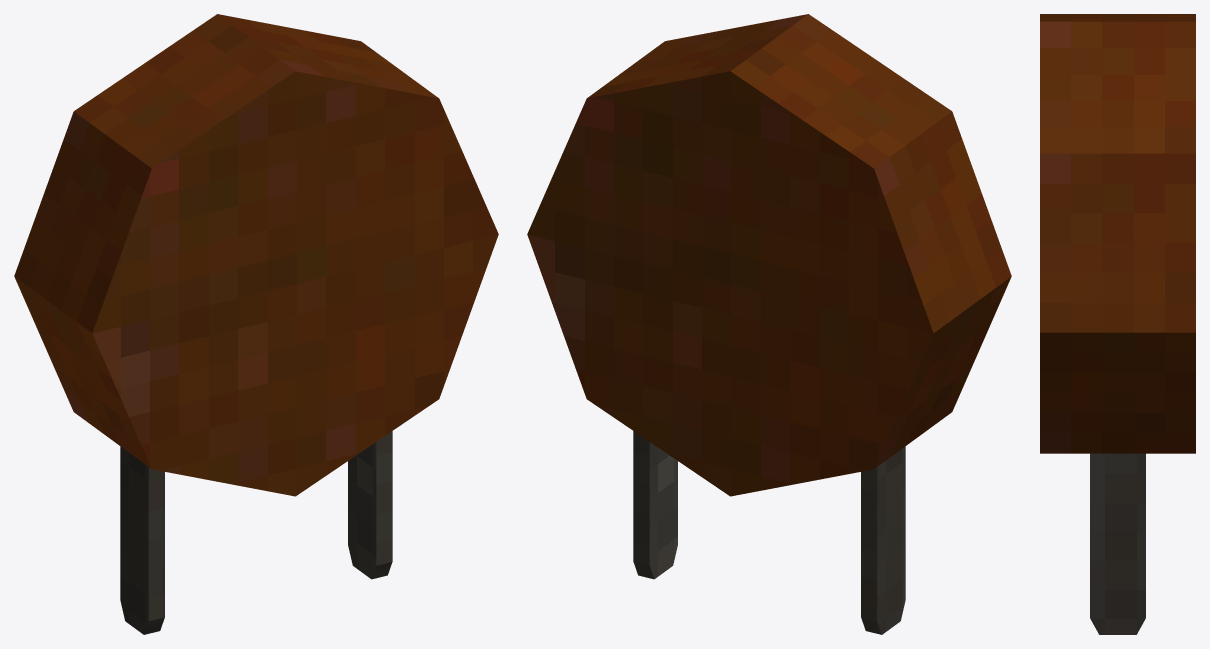
The model's file is capacitor_etx_4.glb.
3 renders of one model, left to right at view 1: azimuth 30°, elevation 25°; view 2: azimuth 150°, elevation 25°; view 3: azimuth 270°, elevation 25°, orthographic.
Parts seen in each view (by area): view 1: capacitor_etx_4; view 2: capacitor_etx_4; view 3: capacitor_etx_4.
Boxes of the visible parts, bbox=[...] form: capacitor_etx_4: bbox=[14, 14, 498, 634]; capacitor_etx_4: bbox=[527, 14, 1011, 634]; capacitor_etx_4: bbox=[1040, 14, 1195, 634].
Bounding box in the file's own units: 0.06 × 0.0784 × 0.02.
1 material, 1 textured.
